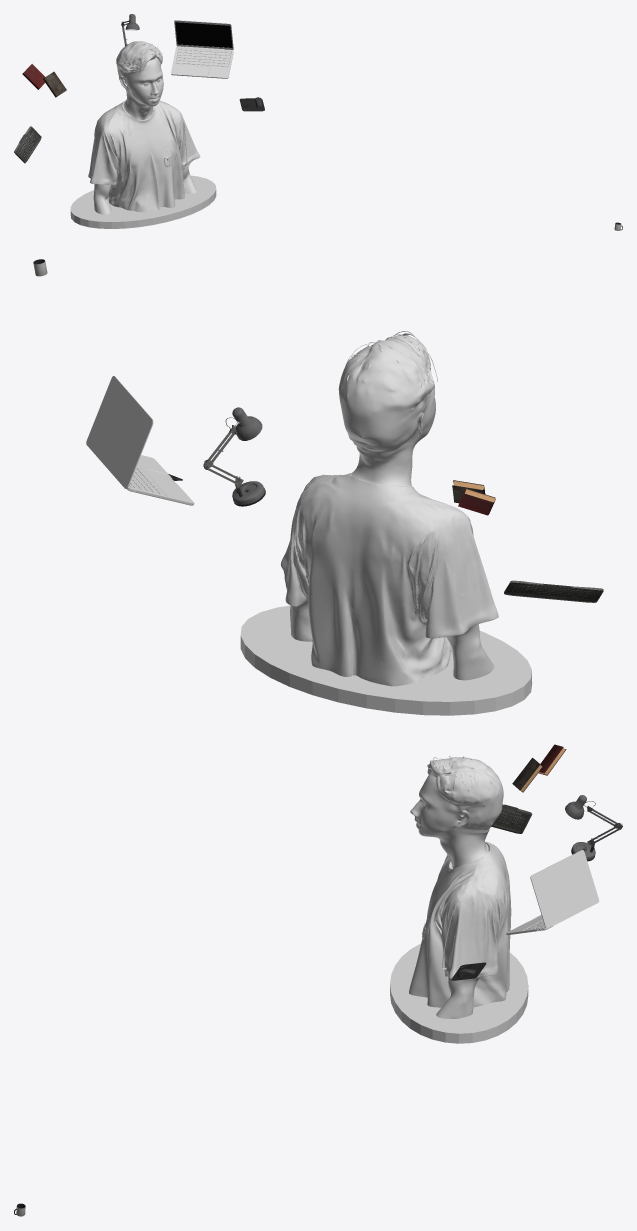
3 renders of one model, top to bottom at view 1: azimuth 30°, elevation 25°; view 2: azimuth 150°, elevation 25°; view 3: azimuth 270°, elevation 25°, orthographic. The views are drawn at different scales.
Visible parts, largest first — view 1: geometry_0, Frame_ComputerFrame_0, Screen_ComputerScreen_0, Keyboard_Keyboard_0, Book01_Book01_0, Book02_Book02_0, Mouse_Mouse_0; view 2: geometry_0, Screen_ComputerScreen_0, DeskLamp_DeskLamp_0, Frame_ComputerFrame_0, Keyboard_Keyboard_0, Book02_Book02_0; view 3: geometry_0, Screen_ComputerScreen_0, DeskLamp_DeskLamp_0, Keyboard_Keyboard_0.
Part boxes in pixels (box(x1,y1,x2,y2)): geometry_0: box(70, 41, 216, 228); Frame_ComputerFrame_0: box(171, 46, 233, 78); Screen_ComputerScreen_0: box(174, 20, 233, 49); Keyboard_Keyboard_0: box(14, 126, 41, 163); Book01_Book01_0: box(43, 71, 66, 97); Book02_Book02_0: box(22, 64, 45, 89); Mouse_Mouse_0: box(239, 97, 264, 111); geometry_0: box(240, 331, 532, 715); Screen_ComputerScreen_0: box(86, 376, 153, 488); DeskLamp_DeskLamp_0: box(203, 407, 265, 506); Frame_ComputerFrame_0: box(127, 455, 194, 505); Keyboard_Keyboard_0: box(504, 580, 603, 602); Book02_Book02_0: box(458, 488, 495, 515); geometry_0: box(390, 756, 528, 1043); Screen_ComputerScreen_0: box(530, 850, 599, 928); DeskLamp_DeskLamp_0: box(565, 795, 622, 861); Keyboard_Keyboard_0: box(491, 804, 532, 833).
Size of the model in its own units: 5.71 by 1.99 by 4.65.
8 materials, 6 textured.
